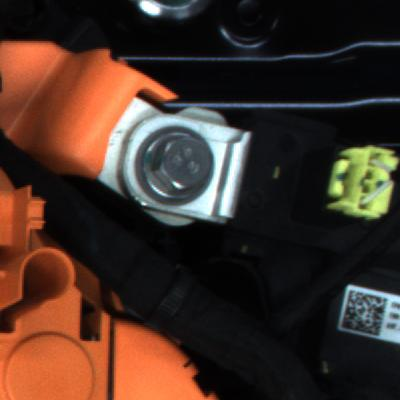nut_b: (127, 124, 217, 211)
